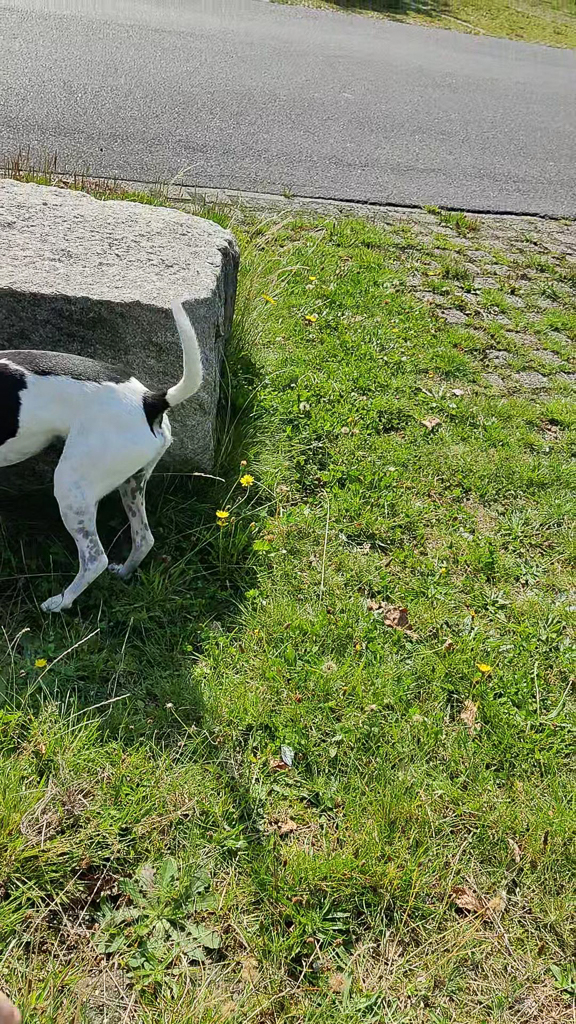Dog: (0, 286, 213, 626)
